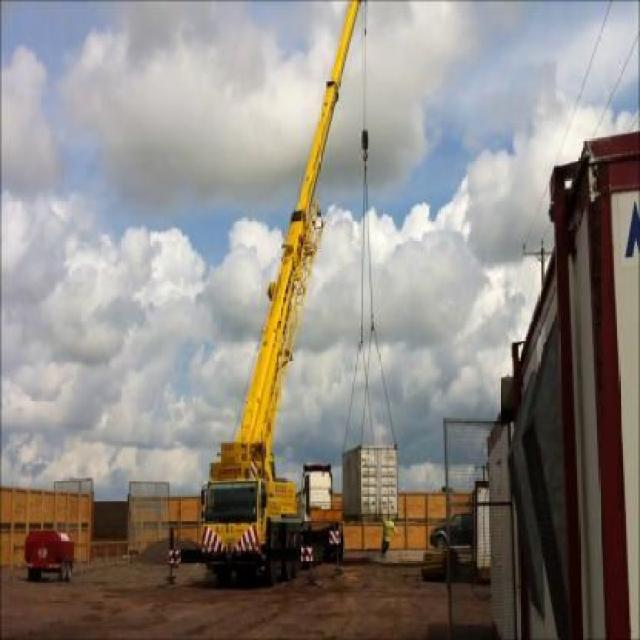Mobile Crane: (165, 0, 382, 574)
